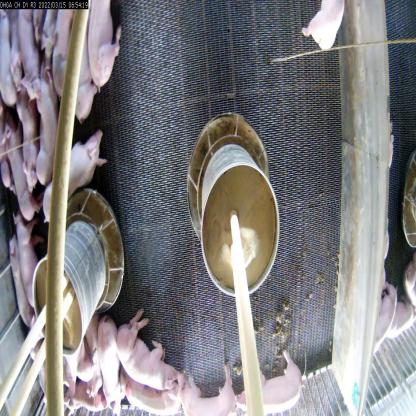Pig: (38, 125, 128, 229), (29, 50, 77, 193), (84, 1, 136, 100), (296, 1, 360, 79), (226, 355, 303, 415), (10, 79, 50, 190), (116, 324, 176, 394), (0, 113, 37, 216), (18, 183, 40, 312), (98, 310, 126, 407), (125, 385, 189, 415), (180, 383, 230, 415)
